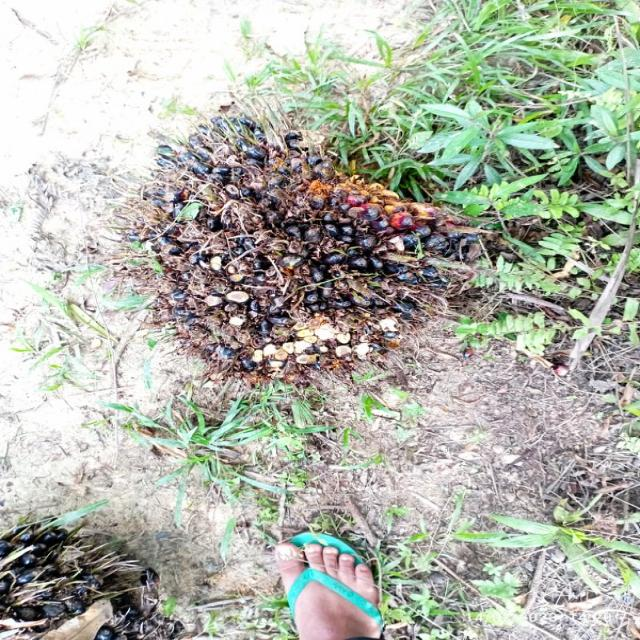fraksi 00: (148, 115, 494, 386)
